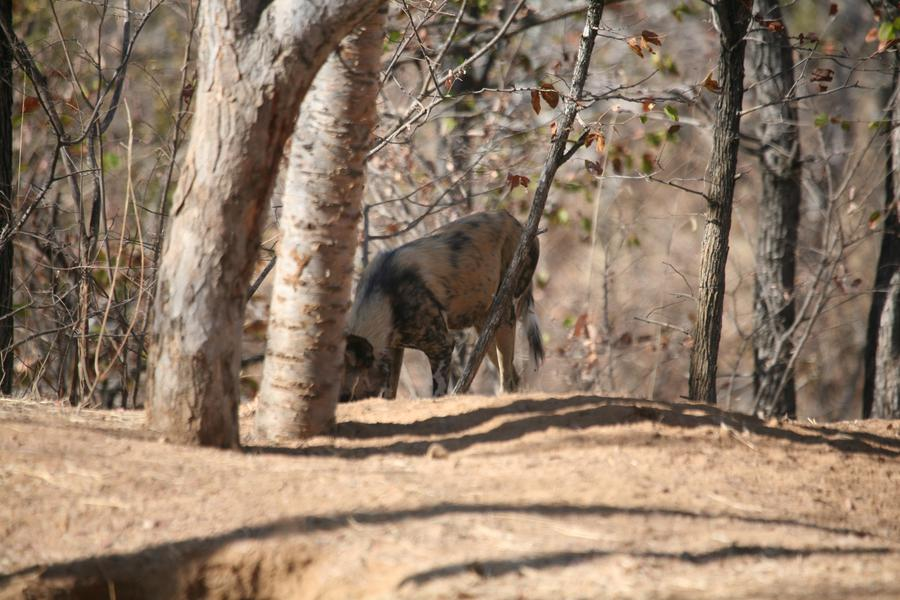wilddog: (355, 195, 522, 363)
